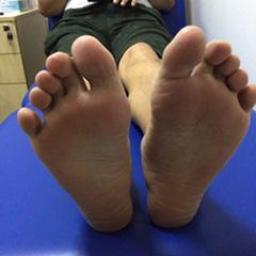Plantar View -Both Feet-: (11, 22, 255, 244)
